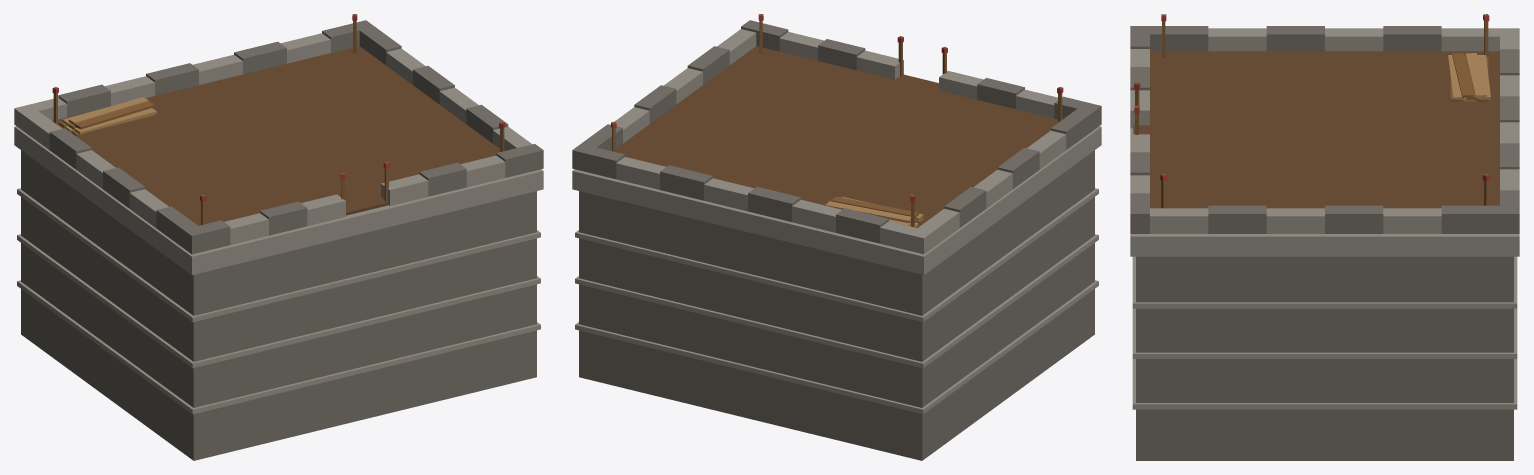
File: site_8x7_1.glb
3 views of the same model, side by side, from view 1: azimuth 30°, elevation 25°; view 2: azimuth 150°, elevation 25°; view 3: azimuth 270°, elevation 25° (orthographic). The views are drawn at different scales.
Parts seen in each view (by area): view 1: site_8x7_1; view 2: site_8x7_1; view 3: site_8x7_1.
Boxes of the visible parts, <box> form: site_8x7_1: <box>14,14,543,460</box>; site_8x7_1: <box>572,14,1101,460</box>; site_8x7_1: <box>1130,14,1519,460</box>.
Size of the model in its own units: 8 by 5.45 by 7.
